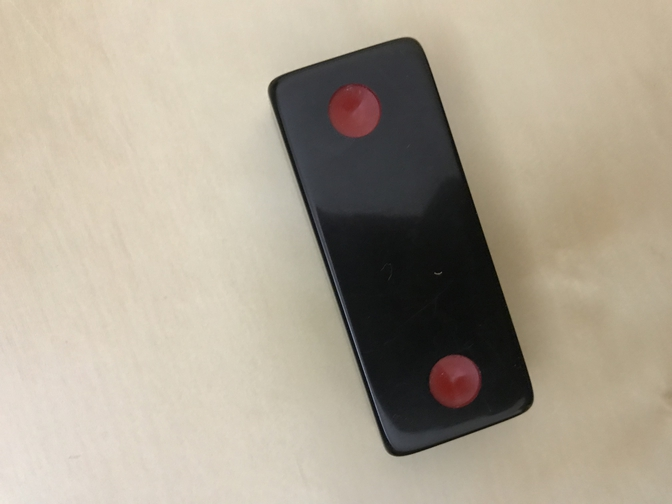earth: (268, 36, 534, 456)
